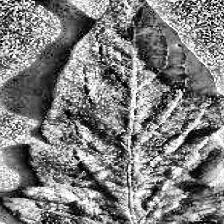spider mites: (2, 0, 224, 224)
